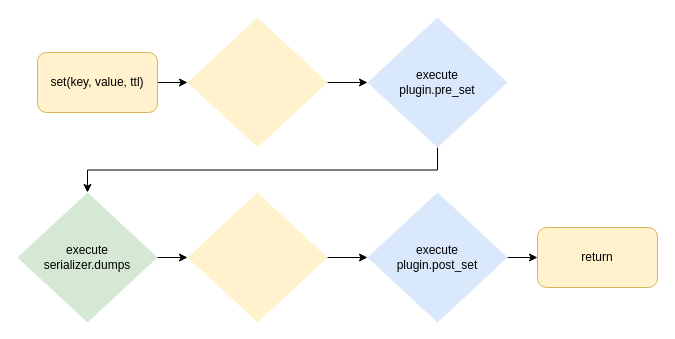
The diagram is 675 pixels wide and 339 high, and some of its shapes have lost their labels. Each missing label, with the centre of its shape:
build key according to namespace: [257,82]
save in backend storage: [257,257]
